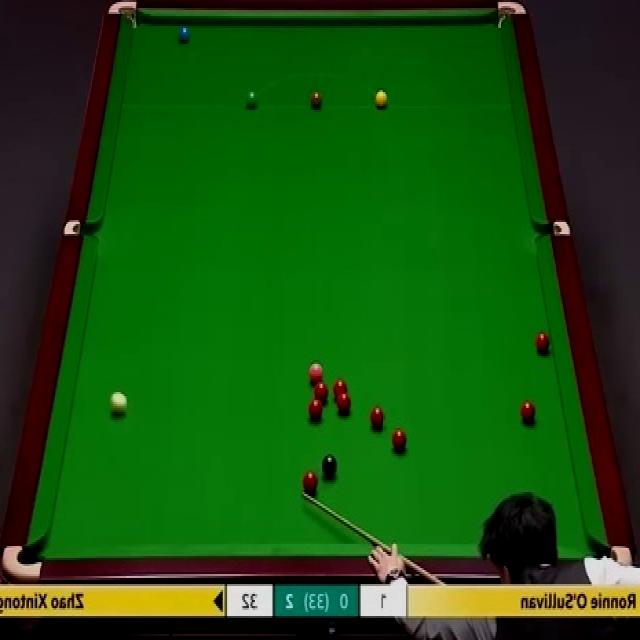black-ball: (323, 453, 338, 482)
blue-ball: (179, 24, 191, 44)
brown-ball: (309, 90, 322, 110)
green-ball: (245, 90, 259, 111)
pink-ball: (308, 361, 324, 385)
red-ball: (334, 392, 352, 416), (308, 396, 323, 424), (534, 330, 552, 353), (390, 429, 408, 451), (312, 380, 330, 402), (300, 473, 316, 497), (332, 378, 348, 400), (371, 405, 386, 428), (521, 401, 537, 422)
white-ball: (110, 392, 128, 418)
yellow-ball: (374, 89, 389, 110)
